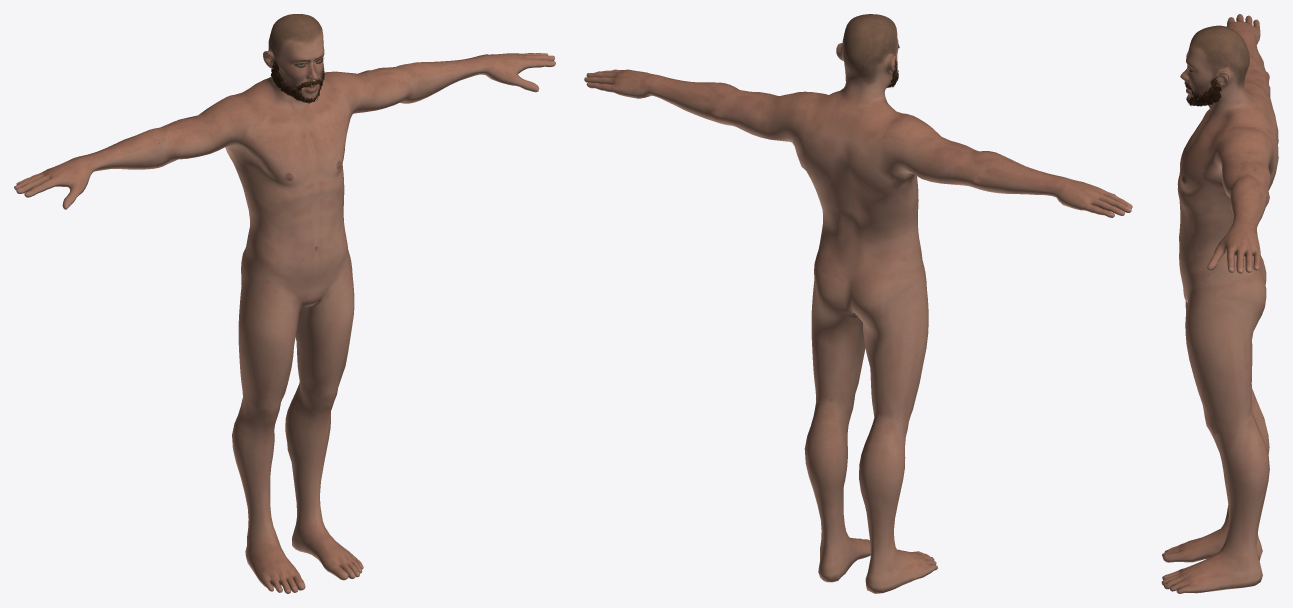
File: cepheasker1.obj
3 renders of one model, left to right at view 1: azimuth 30°, elevation 25°; view 2: azimuth 150°, elevation 25°; view 3: azimuth 270°, elevation 25°, orthographic. The views are drawn at different scales.
Visible parts, largest first — view 1: Body; view 2: Body; view 3: Body, Beards.
Part boxes in pixels (x1=…): Body: x1=14, y1=14, x2=555, y2=593; Body: x1=584, y1=14, x2=1132, y2=593; Body: x1=1161, y1=14, x2=1278, y2=593; Beards: x1=1186, y1=76, x2=1221, y2=106.
Bounding box in the file's own units: 354 × 346 × 67.53.
2 materials, 2 textured.
